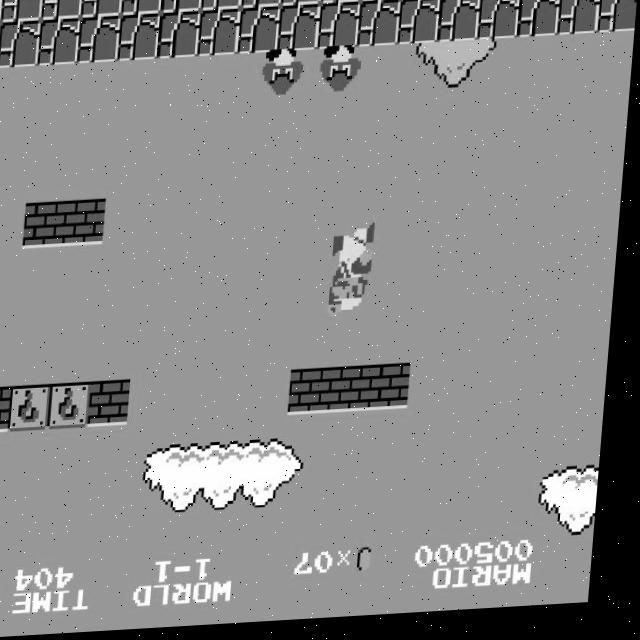1- brick_block: (66, 200, 110, 248), (26, 202, 70, 250), (374, 368, 418, 415), (334, 370, 378, 417), (294, 372, 338, 419), (94, 381, 138, 428), (0, 387, 18, 434)
13- mystery_block: (54, 383, 98, 430), (14, 385, 58, 432)
17- undestructible_block: (438, 0, 482, 48), (398, 2, 442, 50), (358, 4, 402, 52), (318, 6, 362, 54), (278, 7, 322, 55), (238, 9, 282, 57), (198, 11, 242, 59), (158, 13, 202, 61), (118, 15, 162, 63), (78, 17, 122, 65), (38, 19, 82, 67), (478, 0, 522, 46), (0, 20, 42, 68), (518, 0, 562, 44), (558, 0, 602, 42), (599, 0, 639, 40), (1, 0, 43, 23), (41, 0, 83, 21), (81, 0, 123, 19), (121, 0, 163, 17), (161, 0, 203, 15), (201, 0, 243, 14), (241, 0, 283, 12), (281, 0, 323, 10), (321, 0, 363, 8), (361, 0, 403, 6), (401, 0, 443, 4), (0, 23, 2, 69), (441, 0, 483, 2), (0, 1, 3, 23), (481, 0, 523, 1)
4- fire_mario: (333, 227, 382, 323)
8- goomba: (320, 48, 366, 99), (262, 51, 308, 102)
